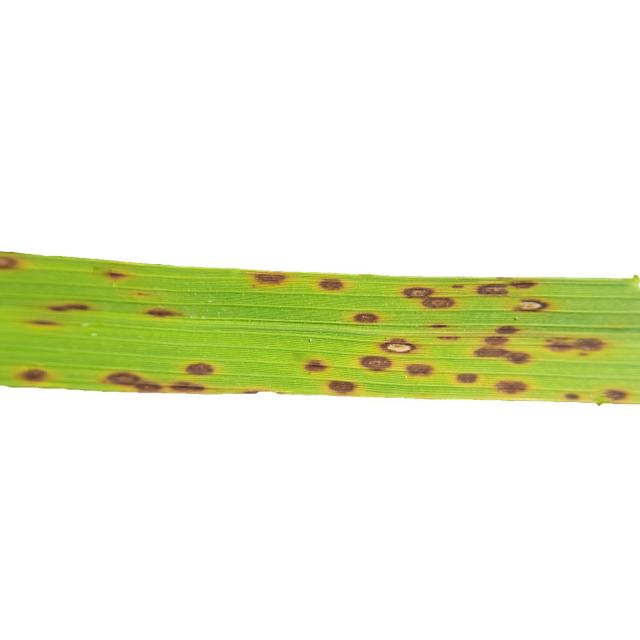healthy: (0, 216, 640, 439)
